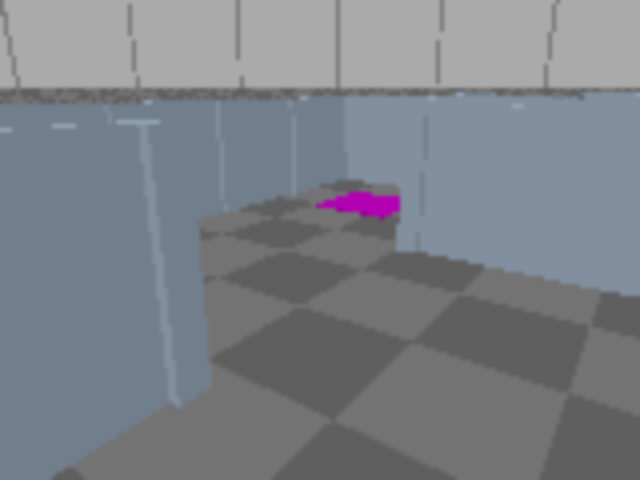goal_zone: (314, 192, 420, 218)
